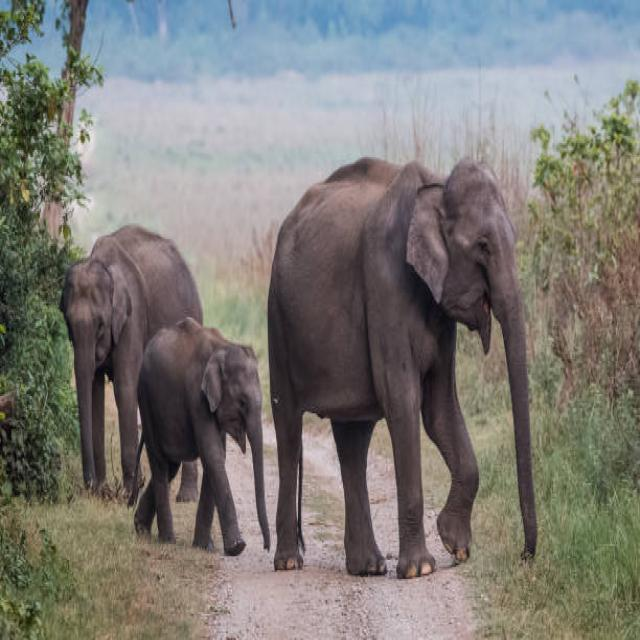Elephant: (271, 143, 541, 584), (48, 217, 206, 544), (133, 300, 269, 580)
